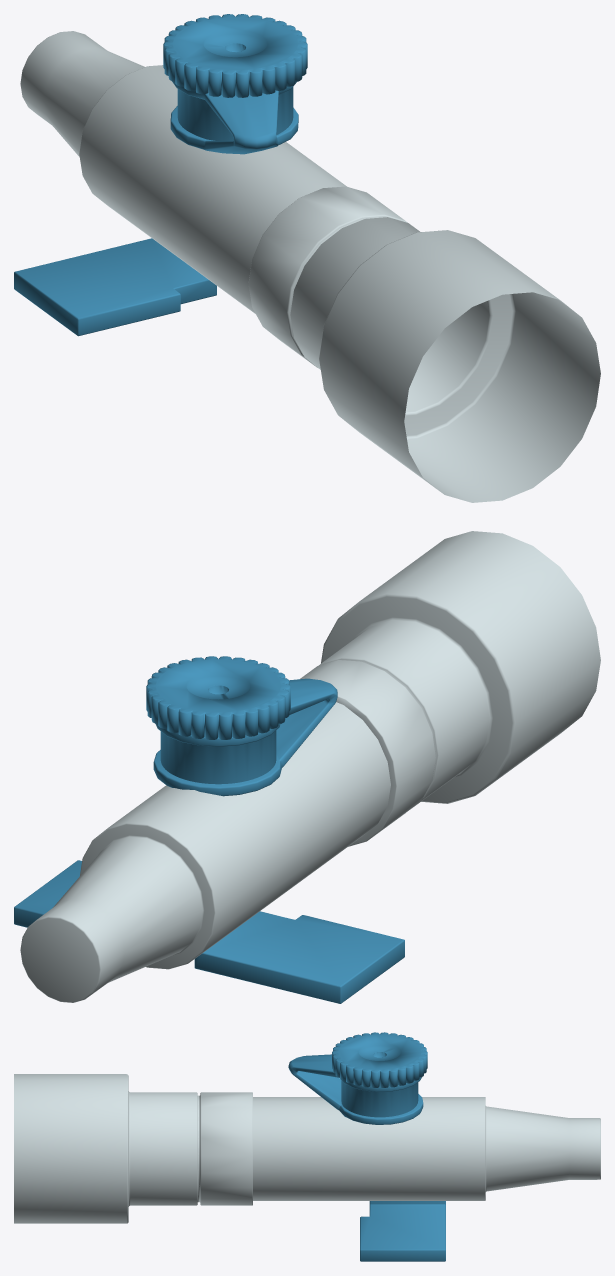
Rendered from BCMM_AppliedIVCannula.fbx.
The picture shows the model from 3 angles, top to bottom: view 1: azimuth 30°, elevation 25°; view 2: azimuth 150°, elevation 25°; view 3: azimuth 270°, elevation 25°; orthographic projection. The views are drawn at different scales.
Visible parts, largest first — view 1: BCMM_AppliedIVCannula; view 2: BCMM_AppliedIVCannula; view 3: BCMM_AppliedIVCannula.
Part boxes in pixels (x1,y1,x2,y2): BCMM_AppliedIVCannula: (14,14,600,502); BCMM_AppliedIVCannula: (14,531,600,1003); BCMM_AppliedIVCannula: (14,1032,600,1261).
Size of what is drawn, in the model's own units: 1.92 by 1.42 by 4.5.
